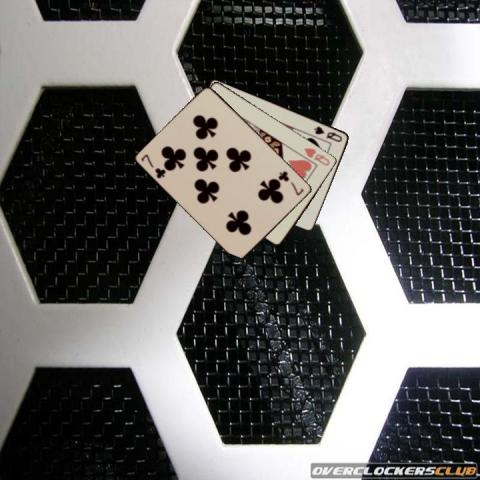7c: (276, 168, 305, 197), (138, 151, 167, 180)
Qh: (302, 145, 332, 167)
Qs: (311, 124, 344, 144)
